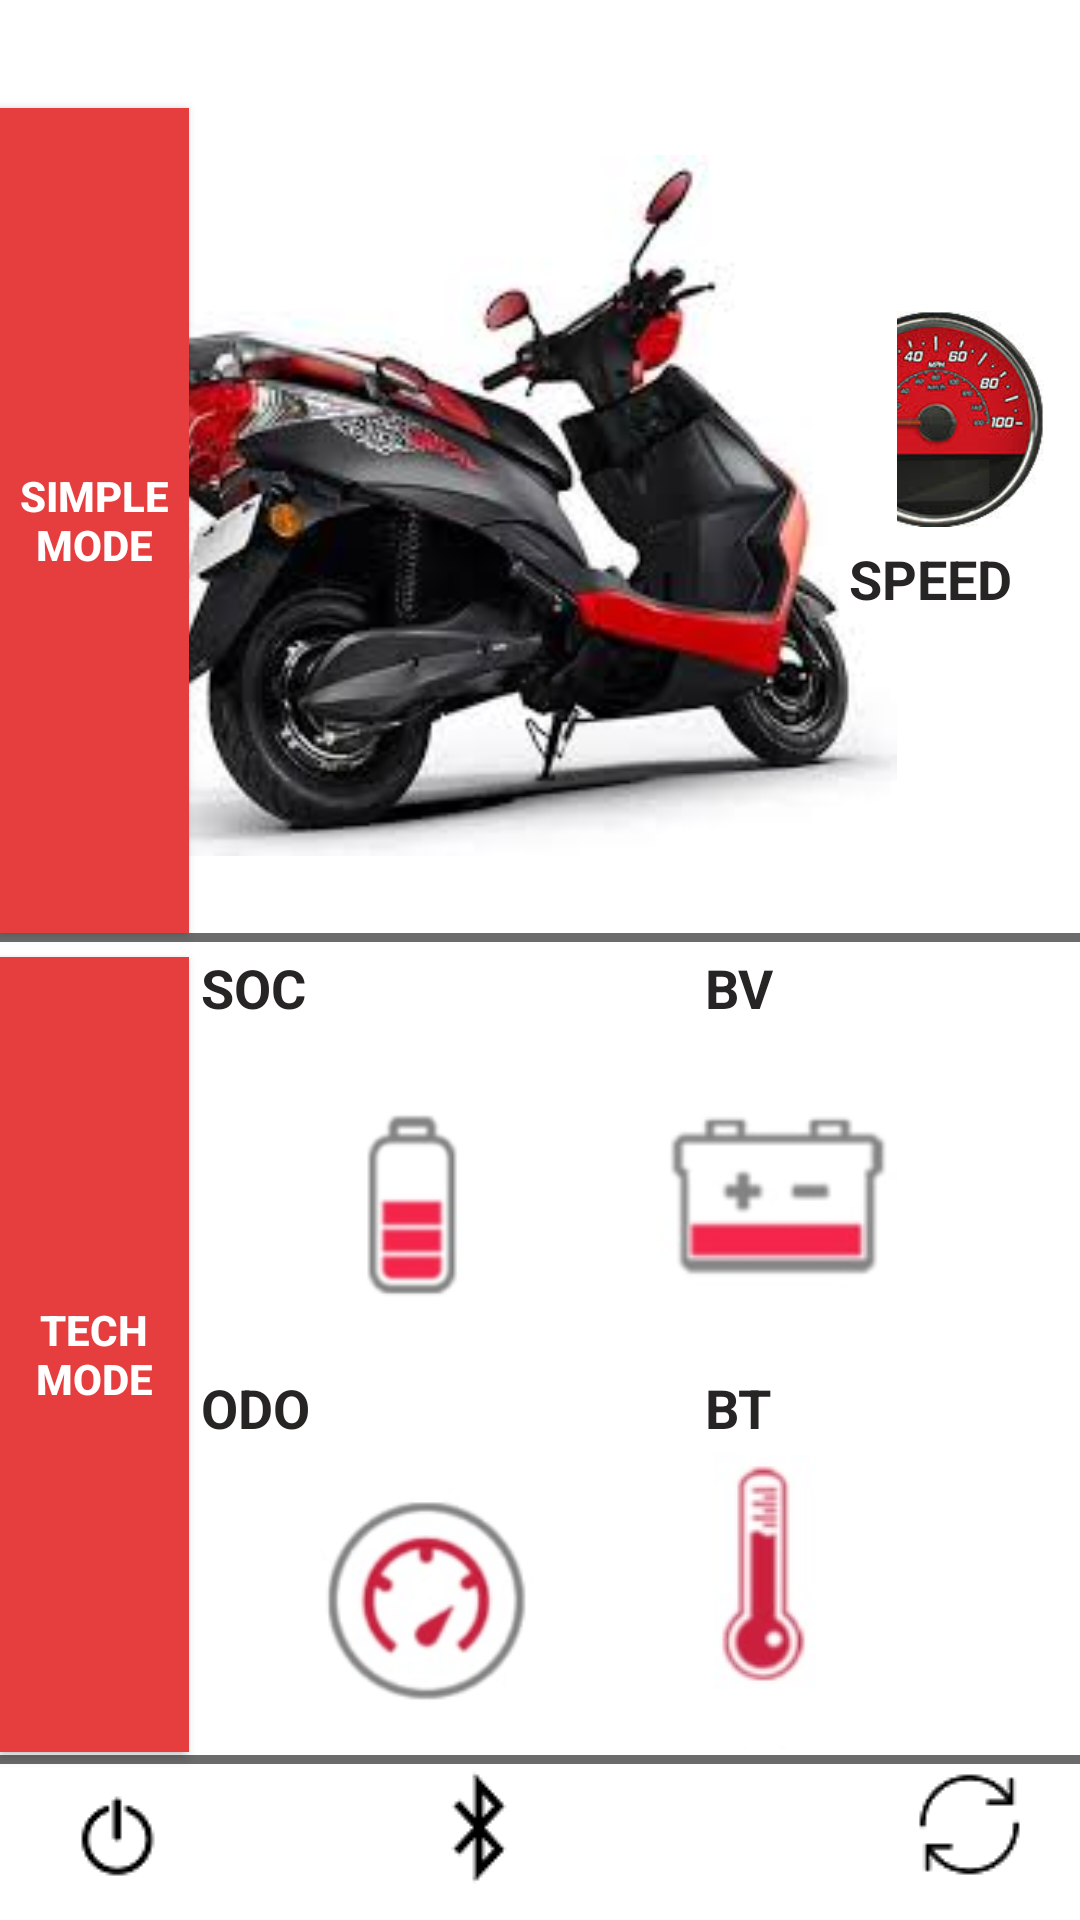

Icons on this 1080w x 1920h Android screen, each with the point to tap as [x,y]:
power: [118,1836]
